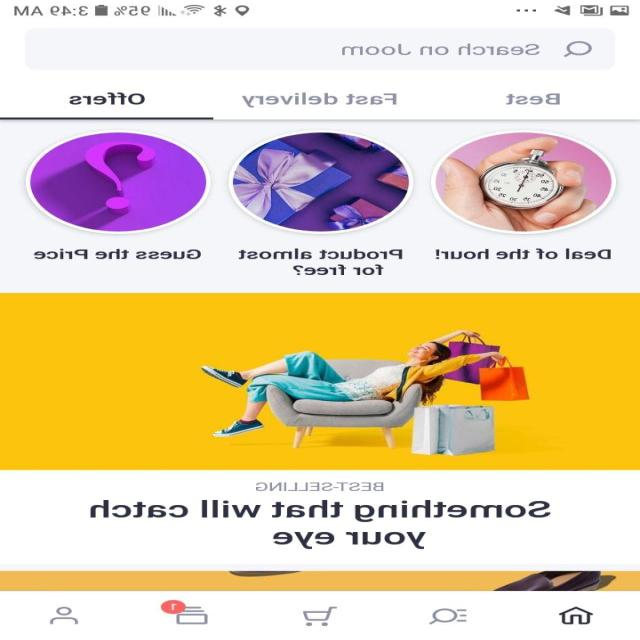EditText: (25, 27, 615, 70)
Icon: (161, 599, 209, 625), (303, 606, 339, 626), (558, 606, 594, 625), (428, 608, 468, 624), (50, 605, 80, 624), (563, 40, 593, 57)
Image: (1, 292, 640, 470), (430, 129, 616, 234), (25, 130, 212, 234), (228, 130, 414, 234), (1, 570, 640, 590)
Text: (90, 499, 552, 549), (238, 247, 404, 275), (342, 43, 540, 56), (242, 92, 398, 108), (436, 248, 612, 260), (34, 248, 202, 259), (256, 481, 385, 491), (69, 92, 146, 105), (506, 93, 561, 105)
